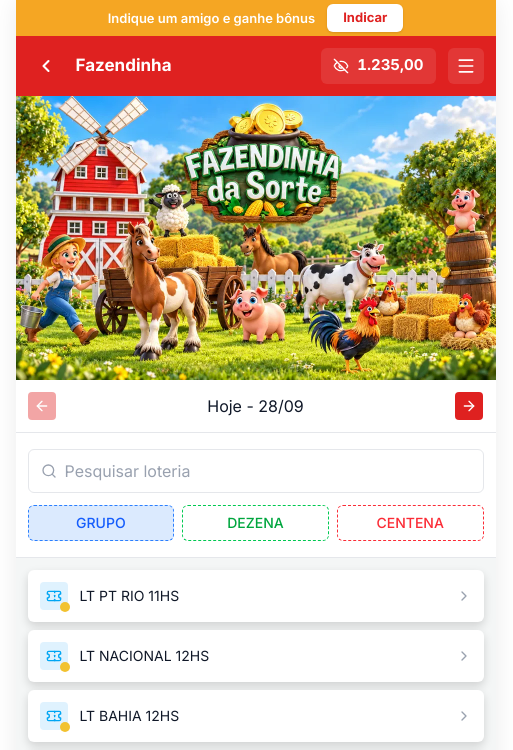
FazendinhaPage › próximo dia mostra todas as extrações e busca os vendidos daquele dia
The image size is (513, 750).
Click the button named "Próximo dia" at (470,406), box x1=456 y1=392 x2=484 y2=420
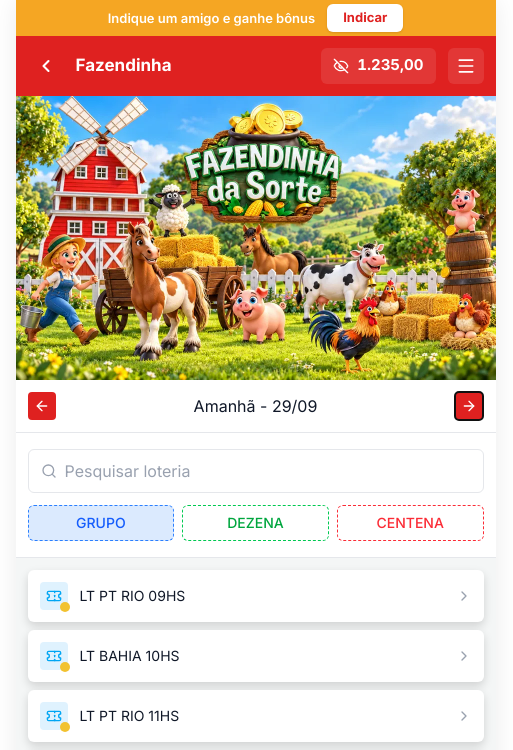
Expected: the text "Amanhã - 29/09" is shown, x1=194 y1=394 x2=317 y2=418
Expected: the button "LT PT RIO 09HS" is shown, x1=28 y1=570 x2=484 y2=622
